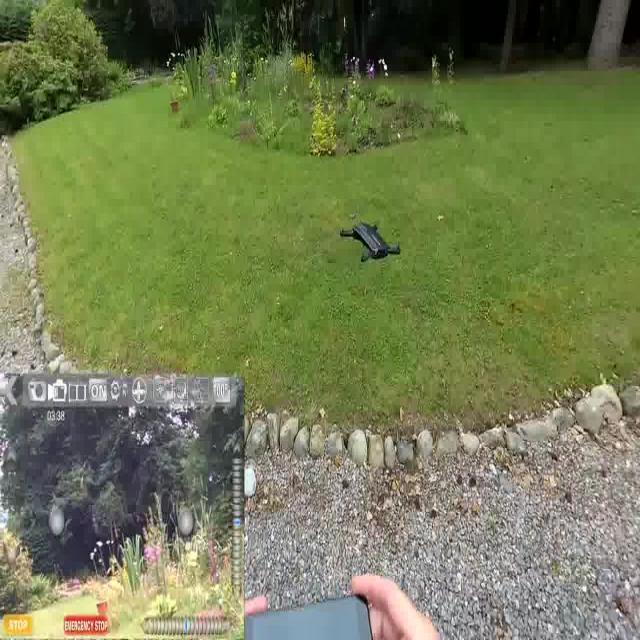drones: (345, 217, 401, 267)
